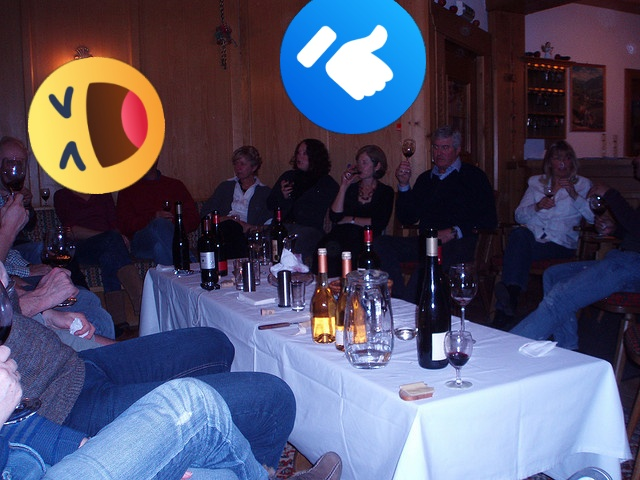haha: (28, 57, 165, 194)
like: (280, 0, 426, 134)
